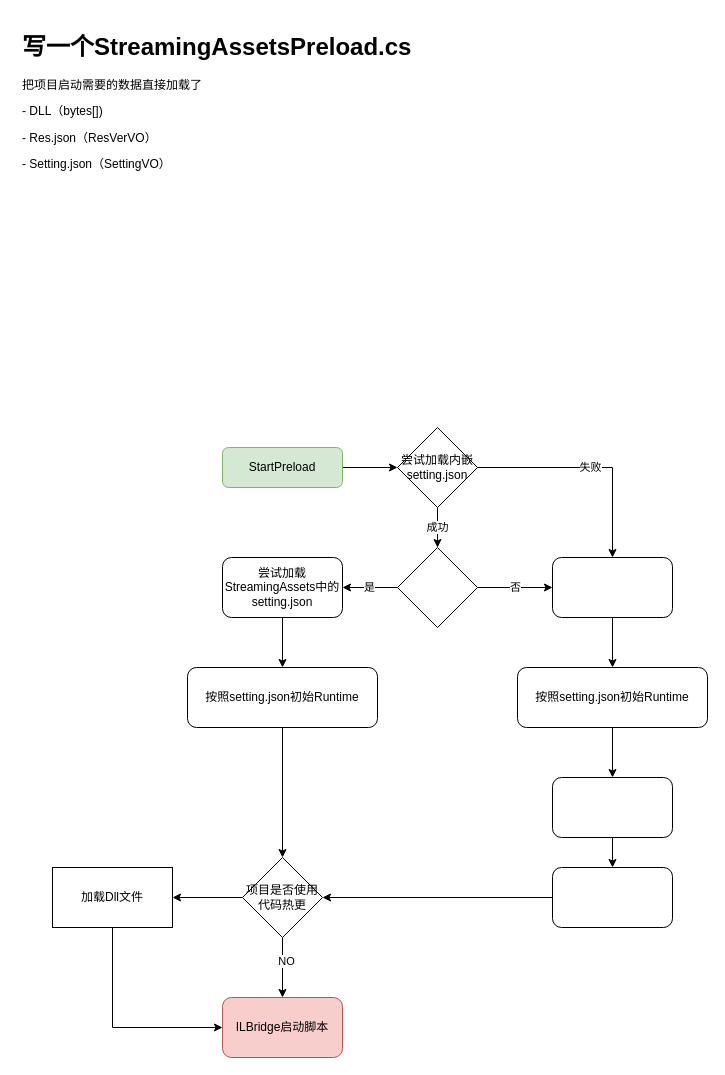
Image size: 725x1075. Some labels were removed from this diagram. Here are the shapes that lost their labels. From the top down, the centre of each, then its label:
the point at 437,587: 内嵌setting.json是否标记不用热更
the point at 612,587: 更新网络setting.json
the point at 612,807: 客户端更新检查
the point at 612,897: res.json更新检查
